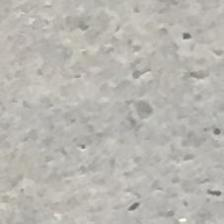Non_Crack: (32, 35, 130, 224)
